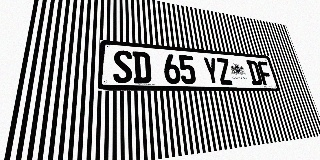5: (178, 55, 197, 84)
6: (162, 53, 181, 84)
D: (132, 51, 152, 84), (246, 60, 263, 85)
F: (257, 61, 274, 85)
S: (113, 50, 133, 83)
Y: (202, 57, 220, 85)
Z: (215, 58, 233, 85)
